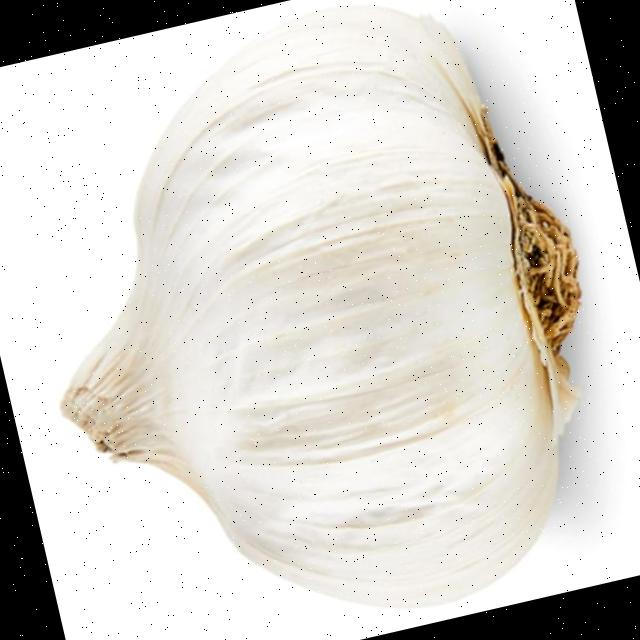garlic: (62, 6, 579, 605)
